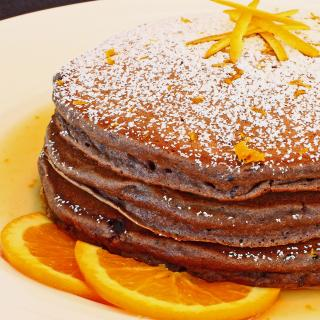Cake: (36, 0, 320, 292)
Pancake: (40, 0, 320, 288)
